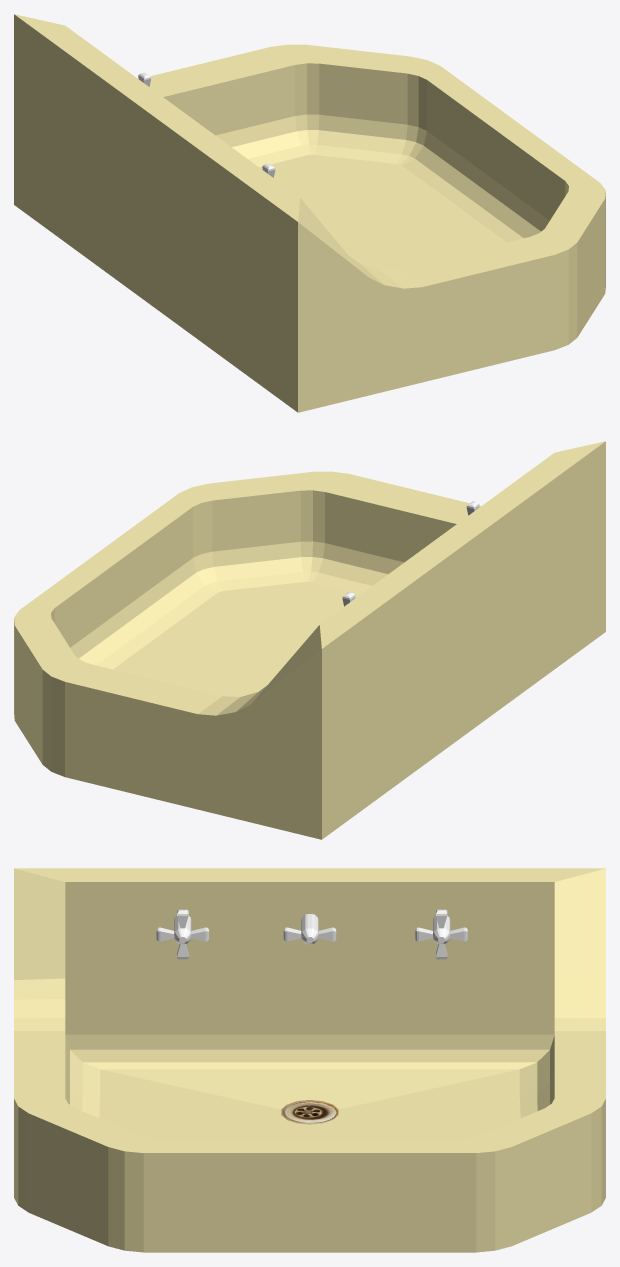
Rendered from Bathroom - Sink.fbx.
3 renders of one model, top to bottom at view 1: azimuth 30°, elevation 25°; view 2: azimuth 150°, elevation 25°; view 3: azimuth 270°, elevation 25°, orthographic. The views are drawn at different scales.
Visible parts, largest first — view 1: Cube.266; view 2: Cube.266; view 3: Cube.266, Cylinder.027, Cylinder.026, Cylinder.025.
Boxes of the visible parts, left/top/right/bottom form: Cube.266: left=14, top=14, right=605, bottom=412; Cube.266: left=14, top=441, right=605, bottom=839; Cube.266: left=14, top=868, right=605, bottom=1252; Cylinder.027: left=156, top=909, right=209, bottom=959; Cylinder.026: left=415, top=909, right=467, bottom=959; Cylinder.025: left=283, top=914, right=336, bottom=944.
Bounding box in the file's own units: 140 × 70.44 × 189.
